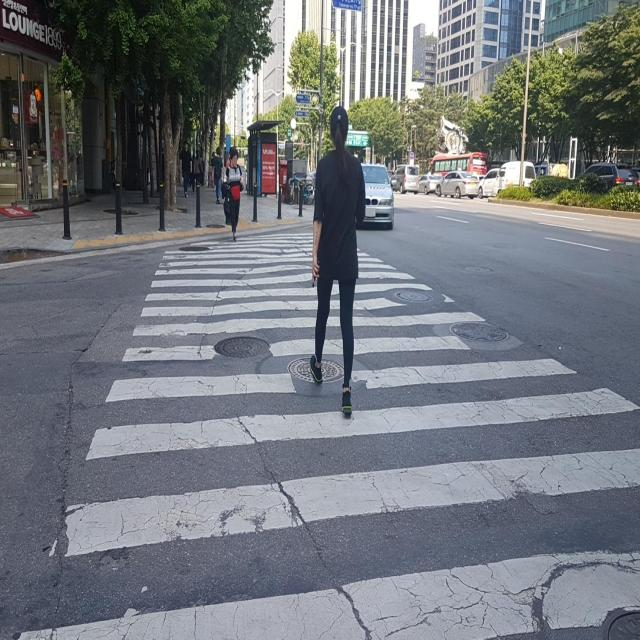횡단보도: (13, 227, 640, 640)
